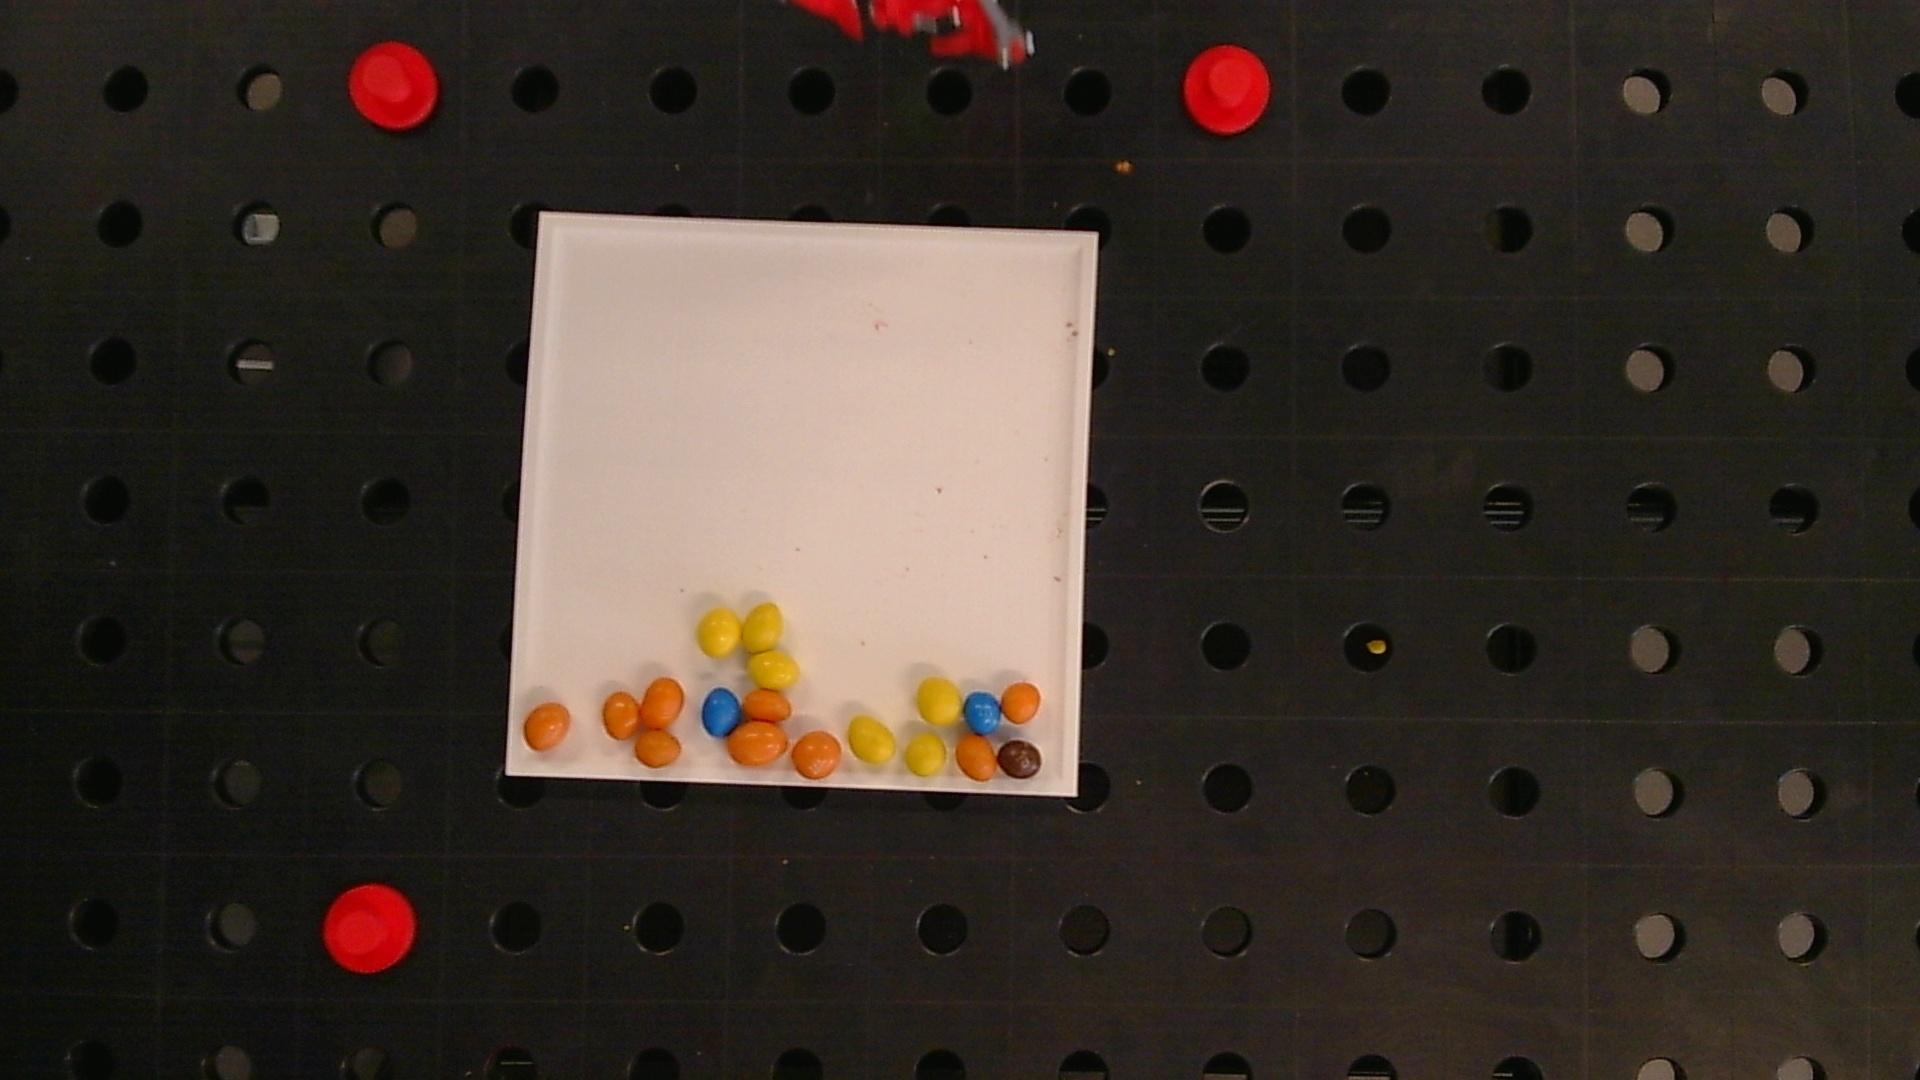blue: (702, 688, 741, 736), (964, 691, 1001, 736)
brown: (996, 740, 1042, 778)
orange: (727, 721, 789, 765), (791, 731, 841, 779), (641, 676, 683, 728), (525, 704, 570, 750), (955, 733, 998, 781), (603, 691, 640, 738), (634, 731, 680, 767), (1001, 683, 1042, 723), (742, 690, 791, 721)
yellow: (849, 716, 897, 764), (916, 678, 963, 725), (698, 608, 741, 657), (742, 603, 782, 653), (750, 651, 798, 690), (905, 733, 947, 775)
